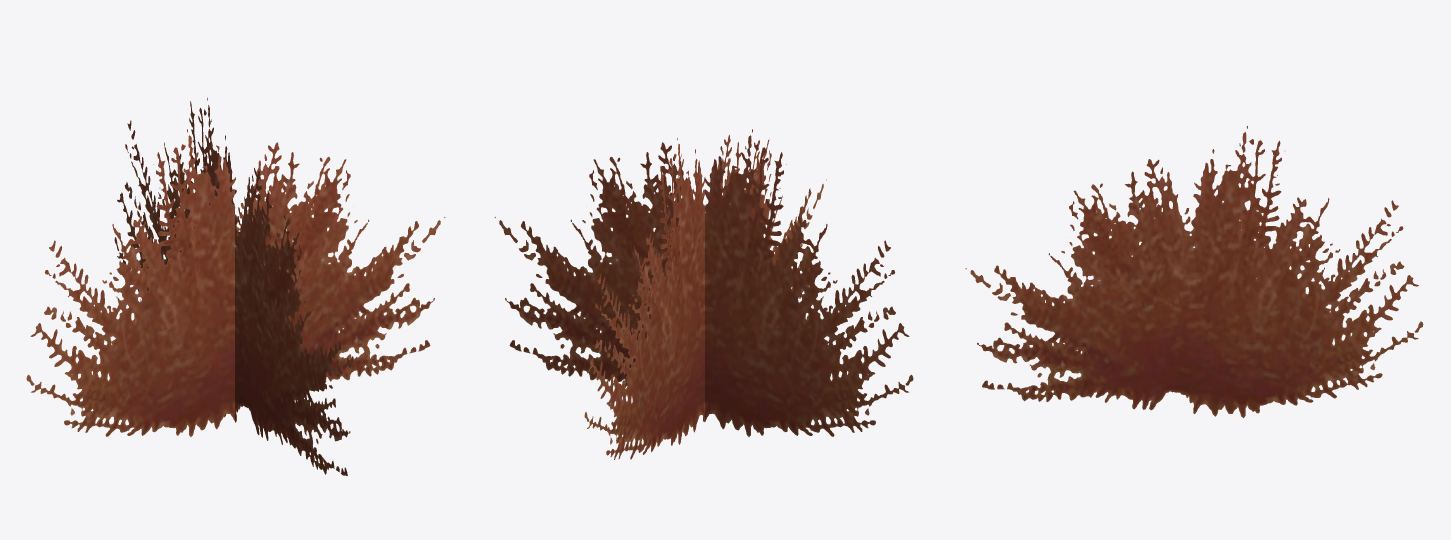
File: shrb_dath_redweed_l1.fbx
The picture shows the model from 3 angles, left to right: view 1: azimuth 30°, elevation 25°; view 2: azimuth 150°, elevation 25°; view 3: azimuth 270°, elevation 25°; orthographic projection. The views are drawn at different scales.
Visible parts, largest first — view 1: mesh_node; view 2: mesh_node; view 3: mesh_node.
Part boxes in pixels (x1,y1,x2,y2): mesh_node: (26,97,445,475); mesh_node: (494,129,913,459); mesh_node: (965,126,1423,417).
Size of the model in its own units: 1.76 by 1.24 by 1.76.
